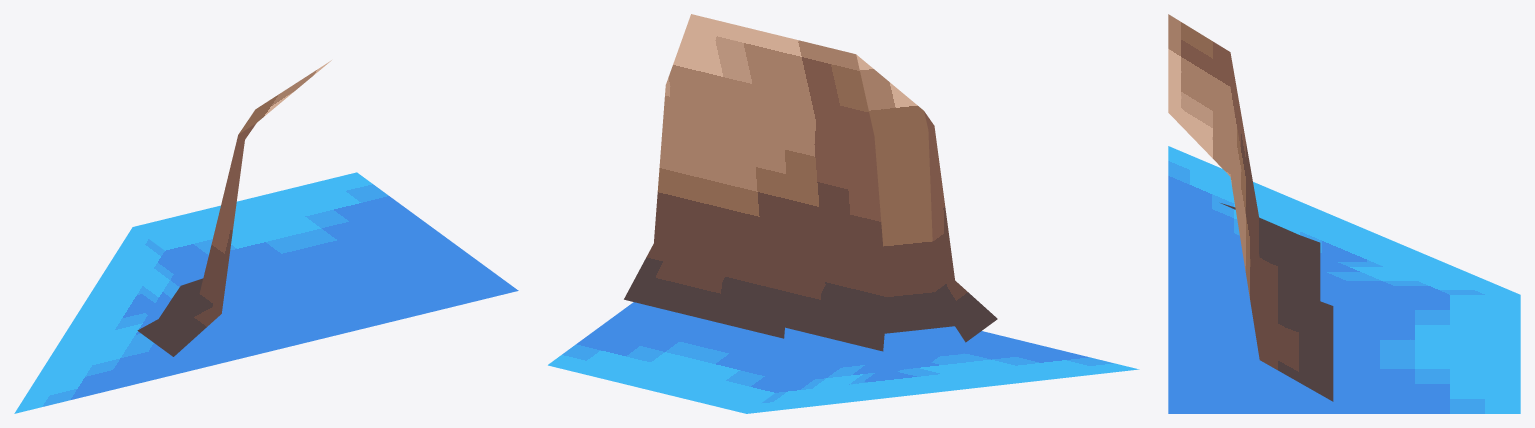
The picture shows the model from 3 angles, left to right: view 1: azimuth 30°, elevation 25°; view 2: azimuth 150°, elevation 25°; view 3: azimuth 270°, elevation 25°; orthographic projection. The views are drawn at different scales.
Bounding box in the file's own units: 1.12 × 0.5896 × 0.625.
2 materials, 2 textured.
